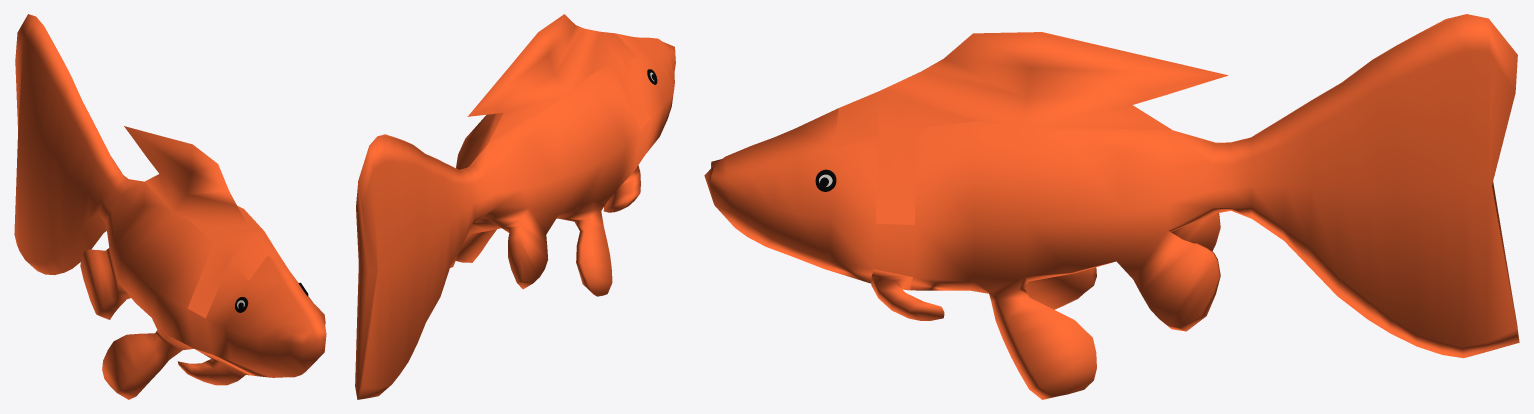
The model's file is fish_orange.glb.
The picture shows the model from 3 angles, left to right: view 1: azimuth 30°, elevation 25°; view 2: azimuth 150°, elevation 25°; view 3: azimuth 270°, elevation 25°; orthographic projection. The views are drawn at different scales.
Visible parts, largest first — view 1: Cube.006; view 2: Cube.006; view 3: Cube.006.
Part boxes in pixels (<box>): Cube.006: <box>14,14,326,399</box>; Cube.006: <box>355,14,675,399</box>; Cube.006: <box>704,14,1519,399</box>.
Size of the model in its own units: 1.32 by 2.2 by 4.73.
